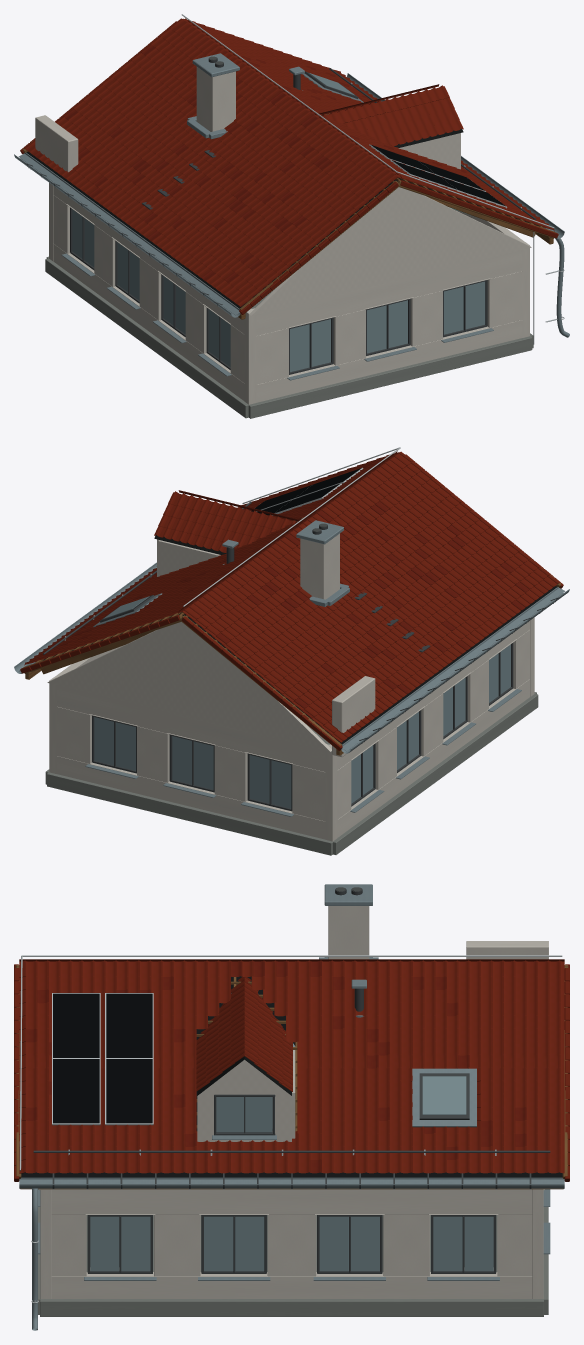
The model's file is uebersicht.glb.
3 views of the same model, one above another, from view 1: azimuth 30°, elevation 25°; view 2: azimuth 150°, elevation 25°; view 3: azimuth 270°, elevation 25° (orthographic). The views are drawn at different scales.
Parts seen in each view (by area): view 1: Bauteil_s01_deckung, Bauteil_g02_tragwerk.001, Bauteil_g02_tragwerk.004, Bauteil_g02_tragwerk, Bauteil_s10_deckung.001, Bauteil_s01_deckung.001, Bauteil_g02_tragwerk.003, Bauteil_s04_deckung, Bauteil_s03_deckung, Schornsteinschaft, Bauteil_s02_deckung, Anschlusswand Nachbarbauteil (+9 smaller); view 2: Bauteil_s01_deckung, Bauteil_g02_tragwerk.001, Bauteil_g02_tragwerk.004, Bauteil_g02_tragwerk, Bauteil_s10_deckung.001, Bauteil_s01_deckung.001, Bauteil_g02_tragwerk.003, Bauteil_s04_deckung, Bauteil_s03_deckung, Schornsteinschaft, Bauteil_s02_deckung, Anschlusswand Nachbarbauteil (+8 smaller); view 3: Bauteil_s01_deckung, Bauteil_g02_tragwerk.001, Bauteil_g02_tragwerk.004, Bauteil_a01_deckung.001, Bauteil_g02_tragwerk, Bauteil_s10_deckung.001, Bauteil_s01_deckung.001, Bauteil_s03_deckung, Bauteil_s10_tragwerk, Bauteil_g02_tragwerk.003, Bauteil_g01_zusatzebene, Bauteil_s02_deckung (+17 smaller).
Part boxes in pixels (left/top/right/bottom): Bauteil_s01_deckung: left=24, top=18, right=554, bottom=306; Bauteil_g02_tragwerk.001: left=49, top=183, right=531, bottom=404; Bauteil_g02_tragwerk.004: left=72, top=209, right=485, bottom=372; Bauteil_g02_tragwerk: left=45, top=256, right=533, bottom=418; Bauteil_s10_deckung.001: left=322, top=85, right=463, bottom=146; Bauteil_s01_deckung.001: left=34, top=44, right=510, bottom=282; Bauteil_g02_tragwerk.003: left=70, top=207, right=487, bottom=374; Bauteil_s04_deckung: left=20, top=21, right=558, bottom=314; Bauteil_s03_deckung: left=14, top=73, right=564, bottom=317; Schornsteinschaft: left=196, top=66, right=235, bottom=131; Bauteil_s02_deckung: left=18, top=153, right=559, bottom=315; Anschlusswand Nachbarbauteil: left=35, top=115, right=78, bottom=172; Bauteil_s01_deckung: left=24, top=451, right=559, bottom=742; Bauteil_g02_tragwerk.001: left=47, top=617, right=534, bottom=841; Bauteil_g02_tragwerk.004: left=94, top=644, right=510, bottom=808; Bauteil_g02_tragwerk: left=45, top=692, right=538, bottom=855; Bauteil_s10_deckung.001: left=154, top=491, right=296, bottom=552; Bauteil_s01_deckung.001: left=58, top=464, right=529, bottom=734; Bauteil_g02_tragwerk.003: left=92, top=643, right=513, bottom=811; Bauteil_s04_deckung: left=20, top=454, right=563, bottom=750; Bauteil_s03_deckung: left=14, top=562, right=569, bottom=753; Schornsteinschaft: left=300, top=533, right=339, bottom=599; Bauteil_s02_deckung: left=19, top=587, right=564, bottom=751; Anschlusswand Nachbarbauteil: left=332, top=676, right=375, bottom=756; Bauteil_s01_deckung: left=19, top=960, right=564, bottom=1173; Bauteil_g02_tragwerk.001: left=39, top=1189, right=544, bottom=1298; Bauteil_g02_tragwerk.004: left=90, top=1216, right=493, bottom=1271; Bauteil_a01_deckung.001: left=53, top=993, right=152, bottom=1123; Bauteil_g02_tragwerk: left=38, top=1207, right=548, bottom=1316; Bauteil_s10_deckung.001: left=196, top=977, right=292, bottom=1091; Bauteil_s01_deckung.001: left=26, top=960, right=526, bottom=1173; Bauteil_s03_deckung: left=19, top=1177, right=564, bottom=1188; Bauteil_s10_tragwerk: left=197, top=1050, right=295, bottom=1141; Bauteil_g02_tragwerk.003: left=87, top=1215, right=496, bottom=1273; Bauteil_g01_zusatzebene: left=21, top=976, right=562, bottom=1177; Bauteil_s02_deckung: left=19, top=1179, right=564, bottom=1183.
Size of the model in its own units: 10.67 by 7.18 by 11.73.
14 materials, 6 textured.
